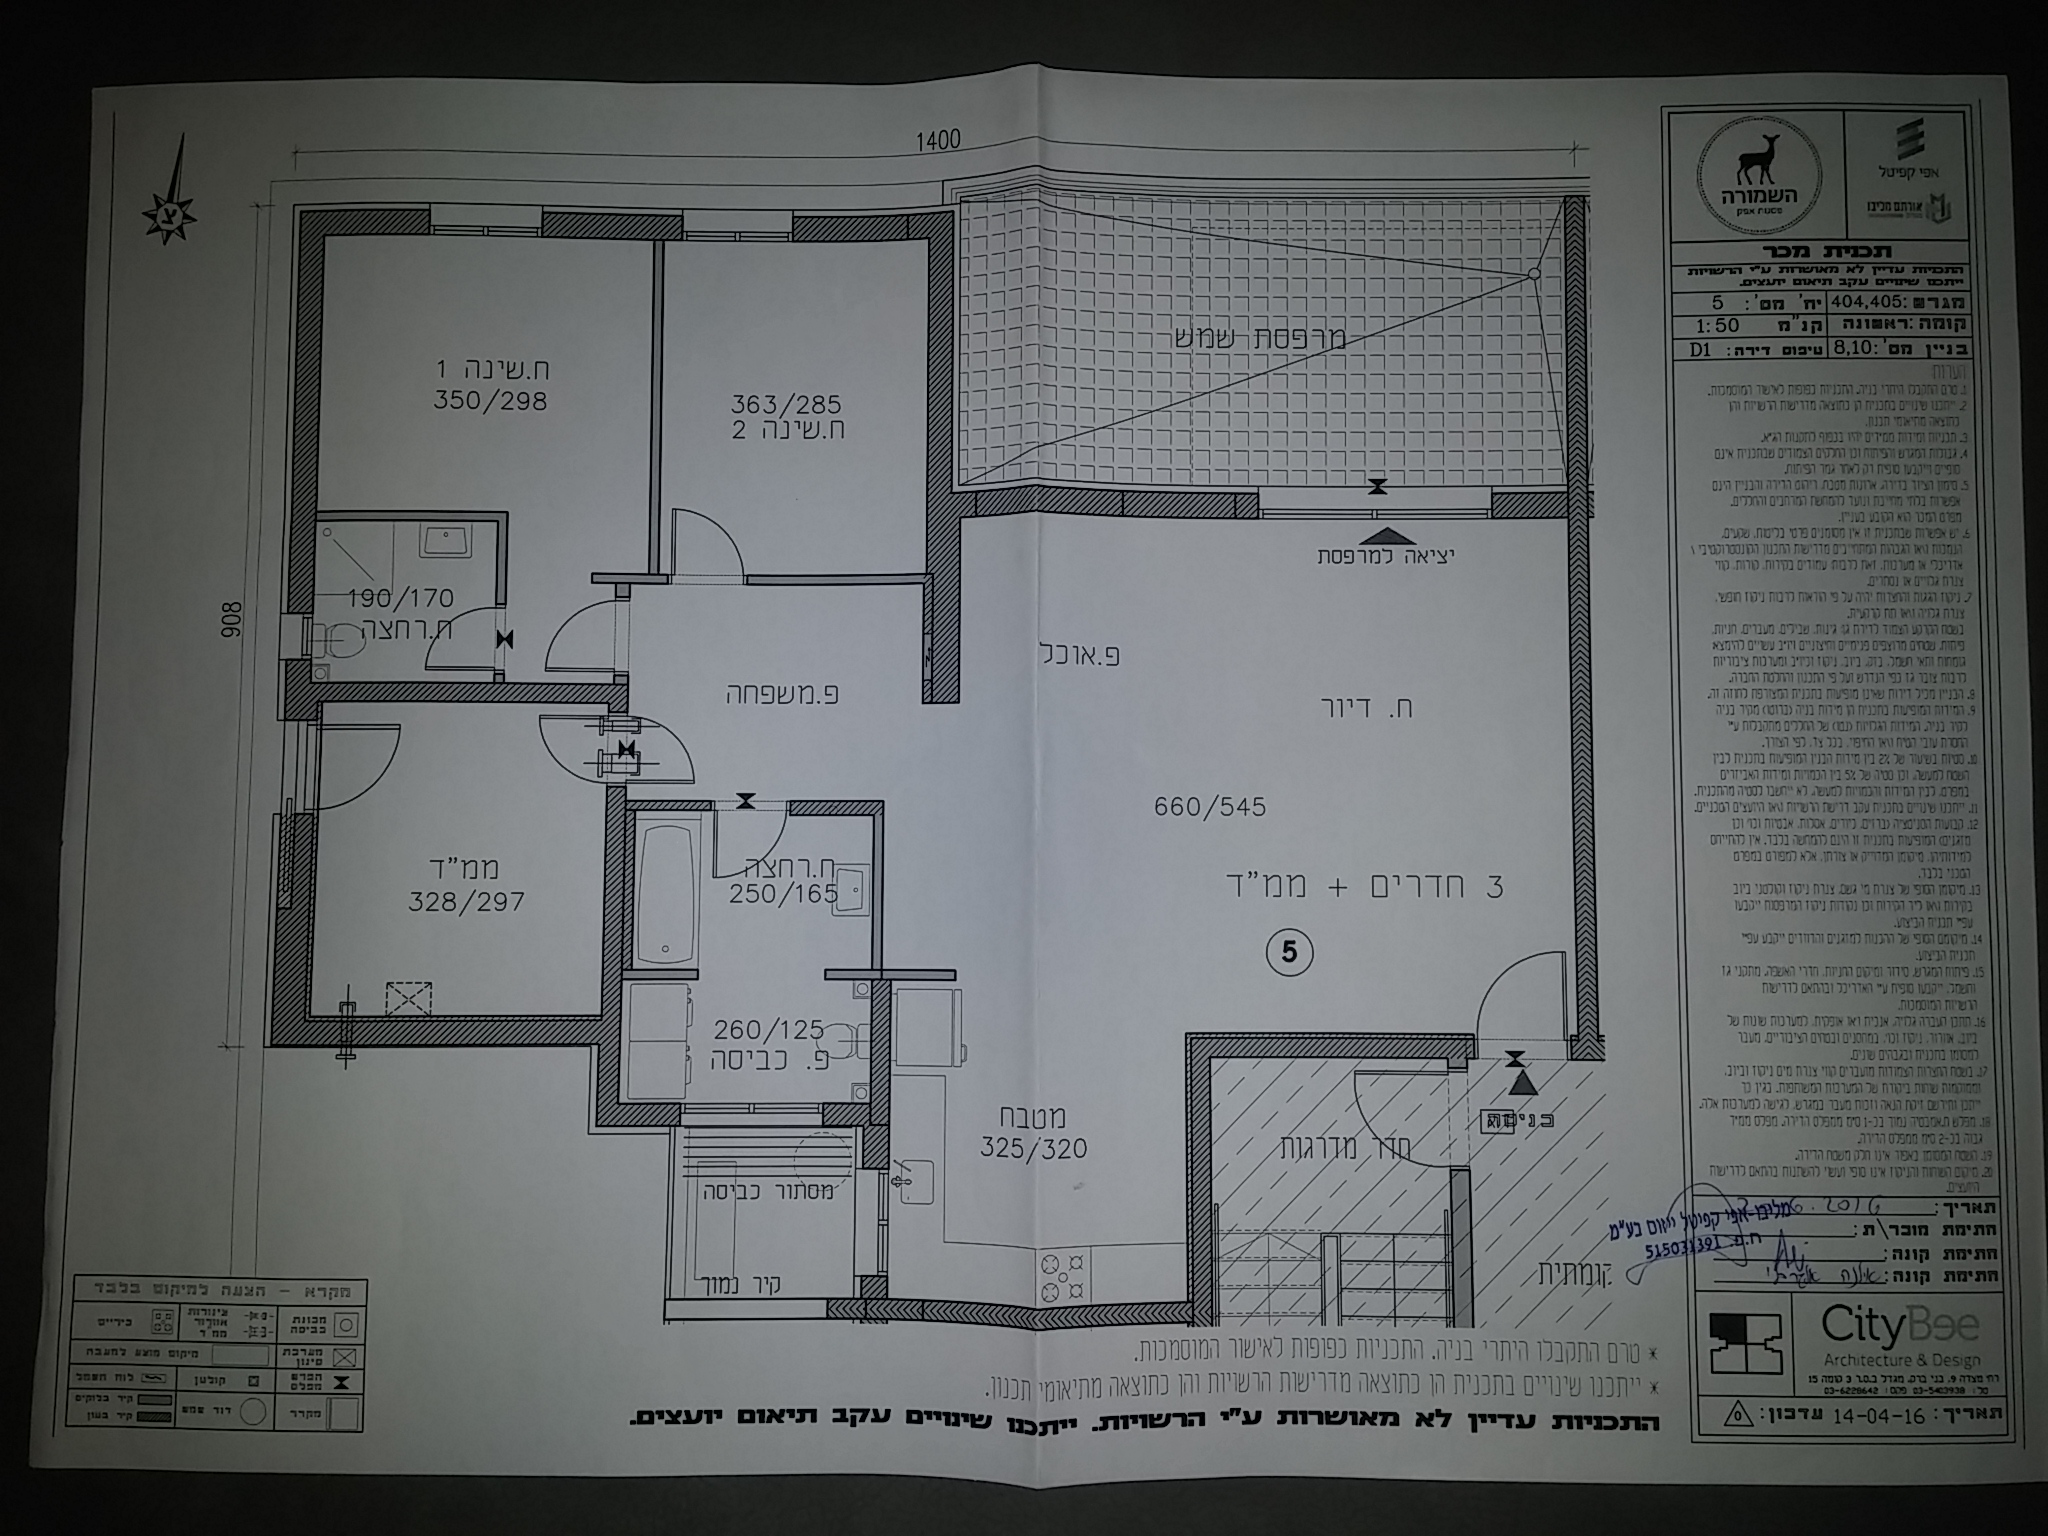door: (518, 712, 743, 795), (1337, 1058, 1480, 1173), (1471, 928, 1572, 1068), (664, 490, 751, 649), (323, 708, 413, 828), (705, 795, 792, 891), (411, 607, 532, 668)
wall: (976, 481, 1261, 537), (363, 1008, 587, 1062)
window: (432, 197, 539, 261), (681, 202, 798, 253)
